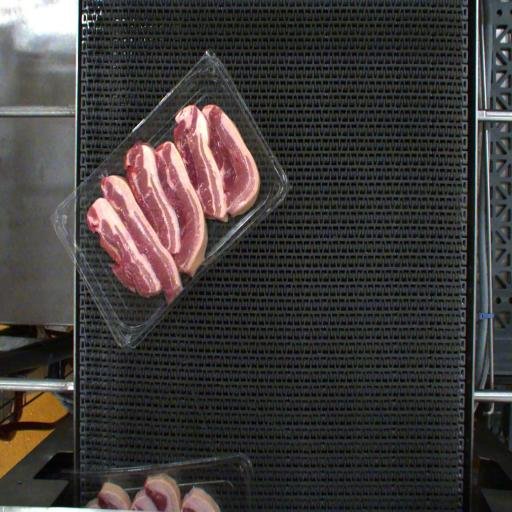packaging-error: (159, 282, 187, 309)
